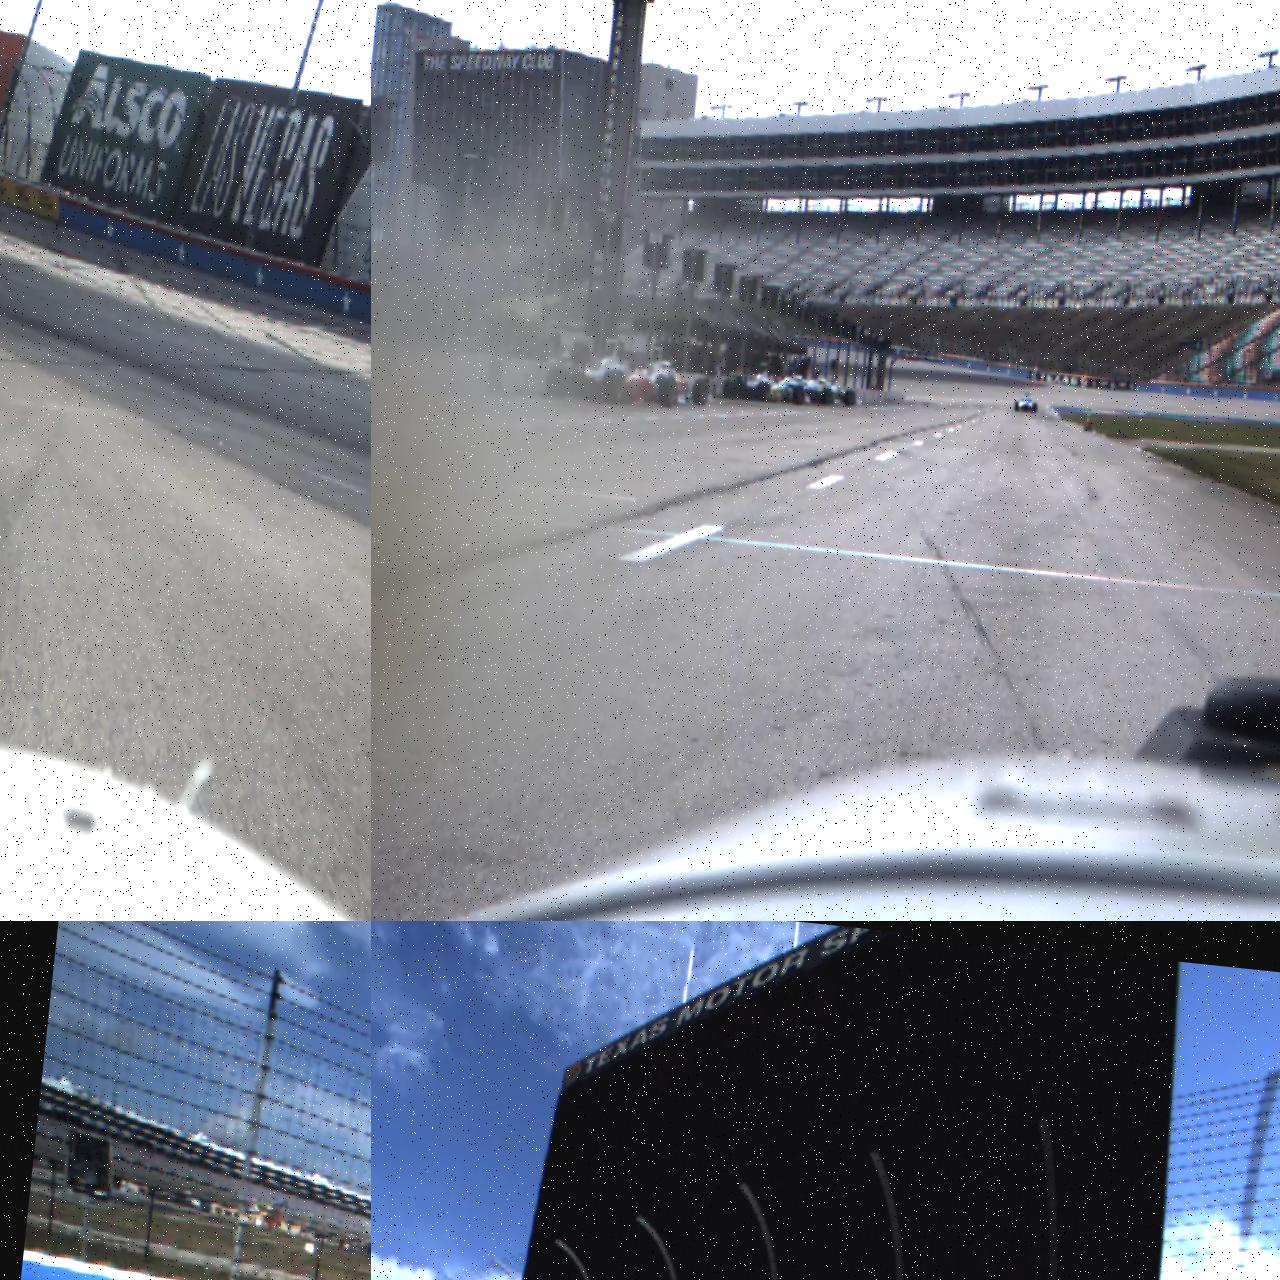AV: (1014, 392, 1039, 413)
Wheel: (545, 367, 572, 399), (602, 373, 626, 402), (658, 377, 678, 408), (692, 377, 710, 406), (755, 381, 770, 402), (844, 389, 857, 407), (792, 388, 805, 406), (822, 388, 833, 406), (1014, 401, 1019, 411), (1033, 403, 1037, 413)
